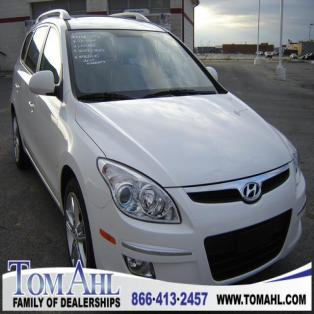Auto: (9, 6, 306, 290)
